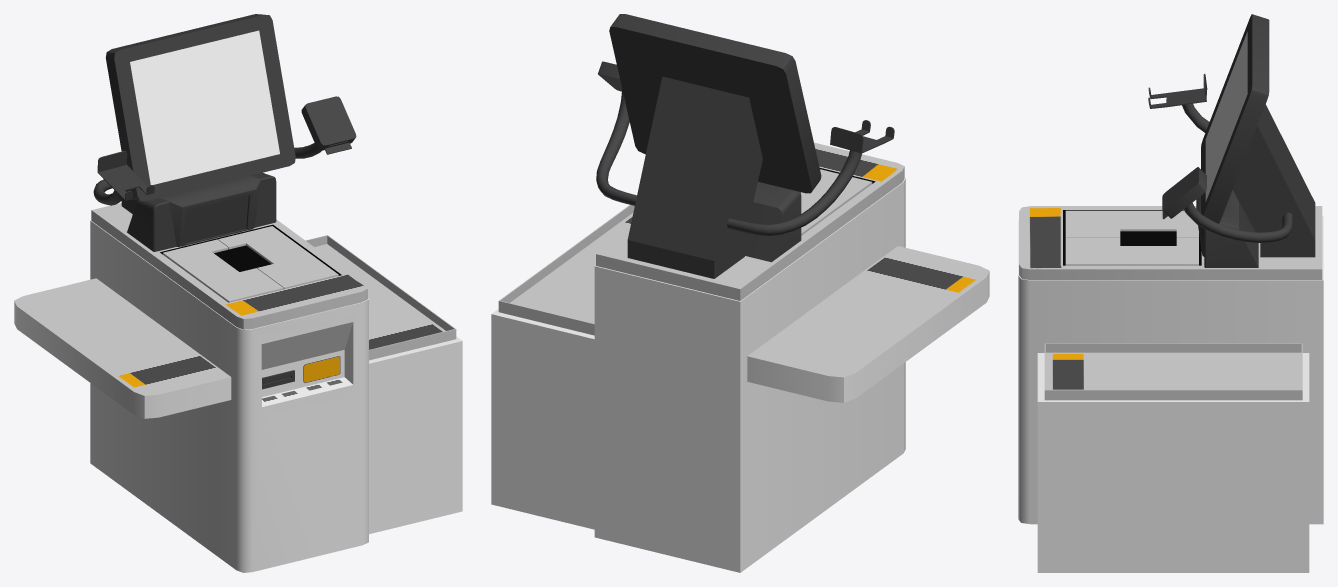
Rendered from self checkout.fbx.
3 views of the same model, side by side, from view 1: azimuth 30°, elevation 25°; view 2: azimuth 150°, elevation 25°; view 3: azimuth 270°, elevation 25° (orthographic). The views are drawn at different scales.
Parts seen in each view (by area): view 1: self checkout; view 2: self checkout; view 3: self checkout.
Part boxes in pixels (x1=…): self checkout: x1=14, y1=14, x2=462, y2=572; self checkout: x1=491, y1=14, x2=989, y2=572; self checkout: x1=1018, y1=14, x2=1323, y2=572.
Size of the model in its own units: 1309 by 1731 by 1083.
Materials: 1 (1 with a texture image).
